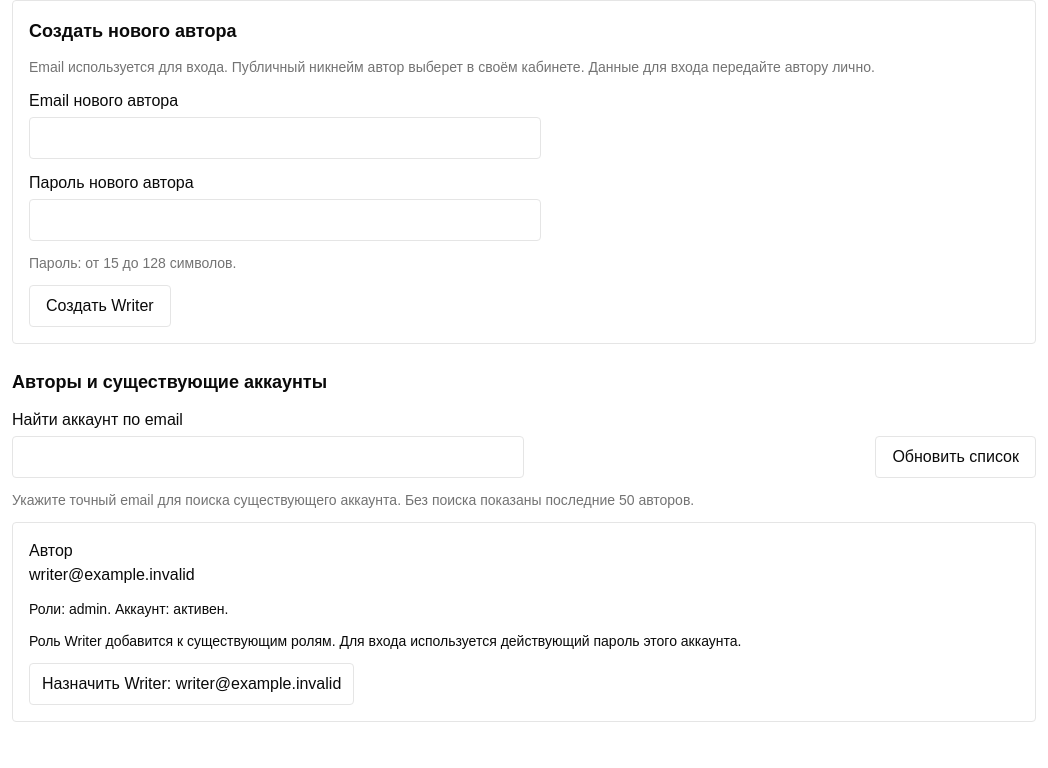
Writer management UI › adds Writer to an explicitly selected existing account without credential fields
The width and height of the screenshot is (1048, 768).
What coordinates should you click on to do the following:
click the button "Назначить Writer: writer@example.invalid"
I would click on:
 (192, 684)
Its box is 29,663 -> 354,705.
(page scrolled)
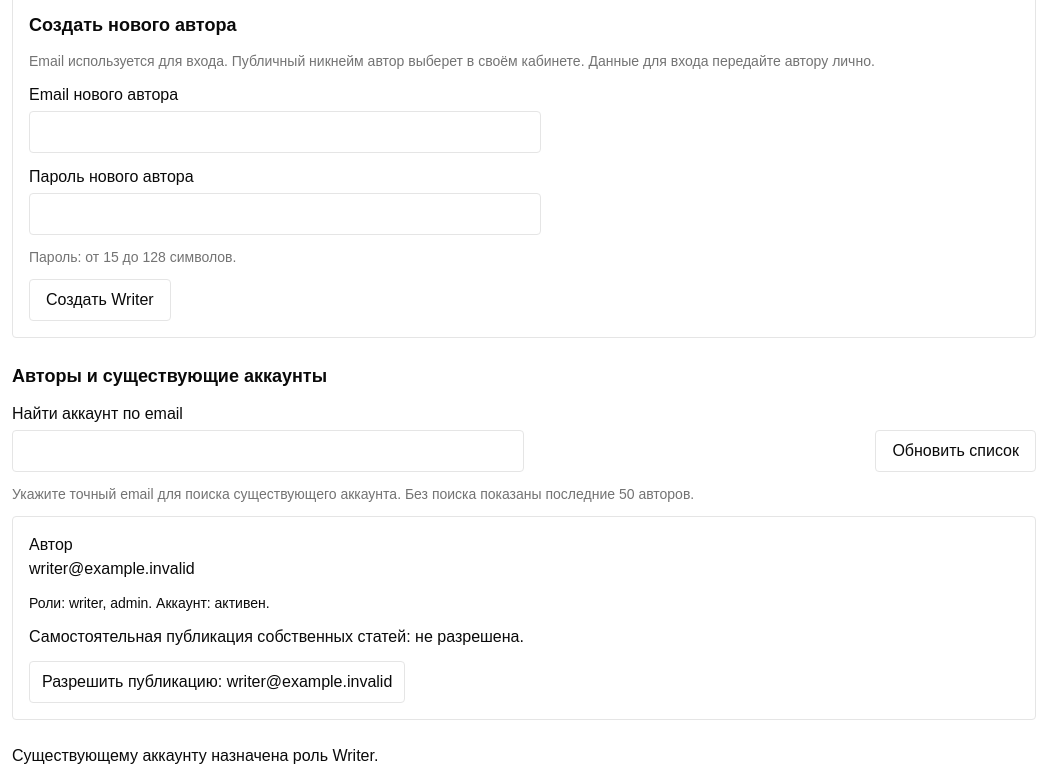
expect the text "Существующему аккаунту назначена роль Writer." is shown: met, box 12,747 -> 378,764
